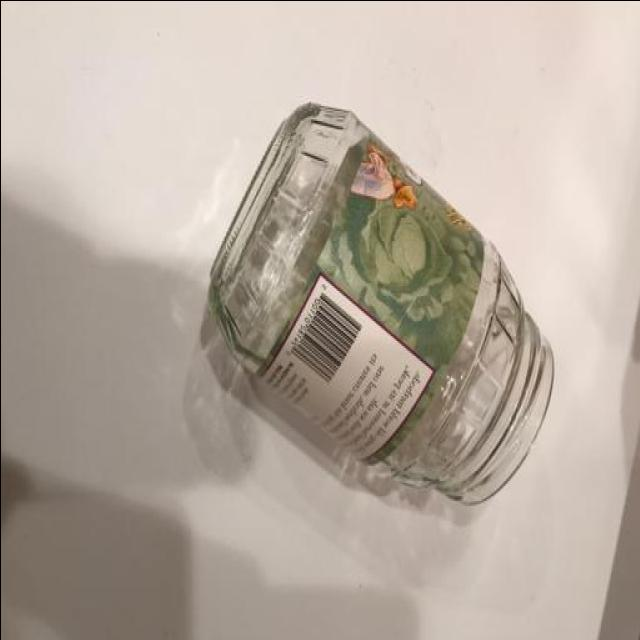glass: (129, 93, 562, 550)
